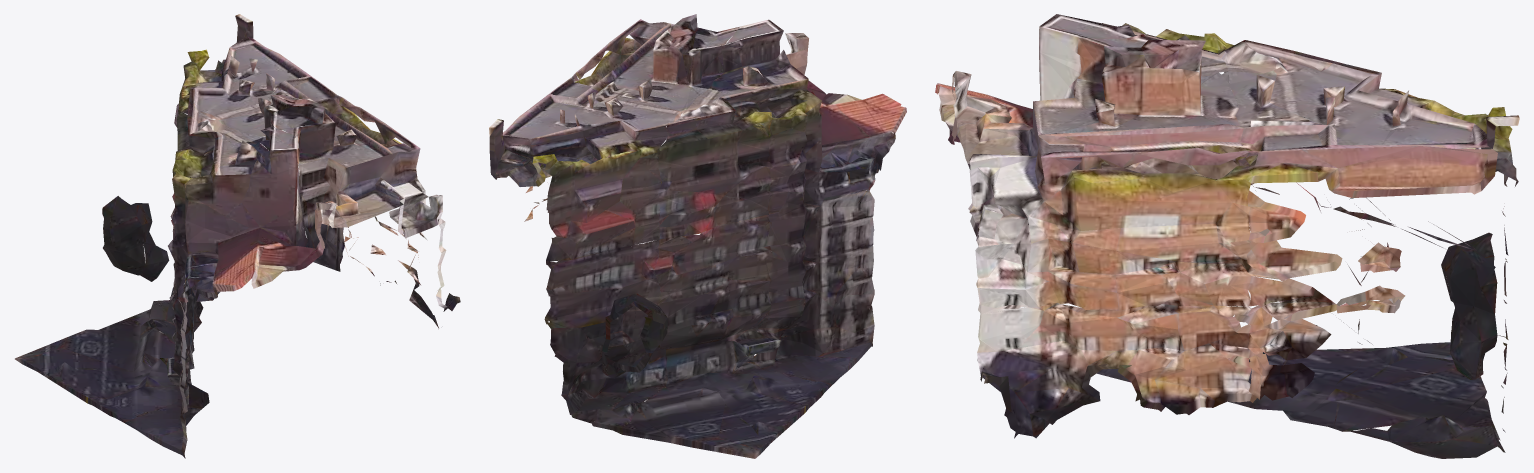
3 renders of one model, left to right at view 1: azimuth 30°, elevation 25°; view 2: azimuth 150°, elevation 25°; view 3: azimuth 270°, elevation 25°, orthographic. The views are drawn at different scales.
Parts seen in each view (by area): view 1: Mesh_0; view 2: Mesh_0; view 3: Mesh_0.
Part boxes in pixels (x1,y1,x2,y2): Mesh_0: (15, 14, 460, 458); Mesh_0: (489, 14, 906, 458); Mesh_0: (935, 14, 1519, 458).
Bounding box in the file's own units: 33.33 × 34.03 × 41.49.
1 material, 1 textured.
